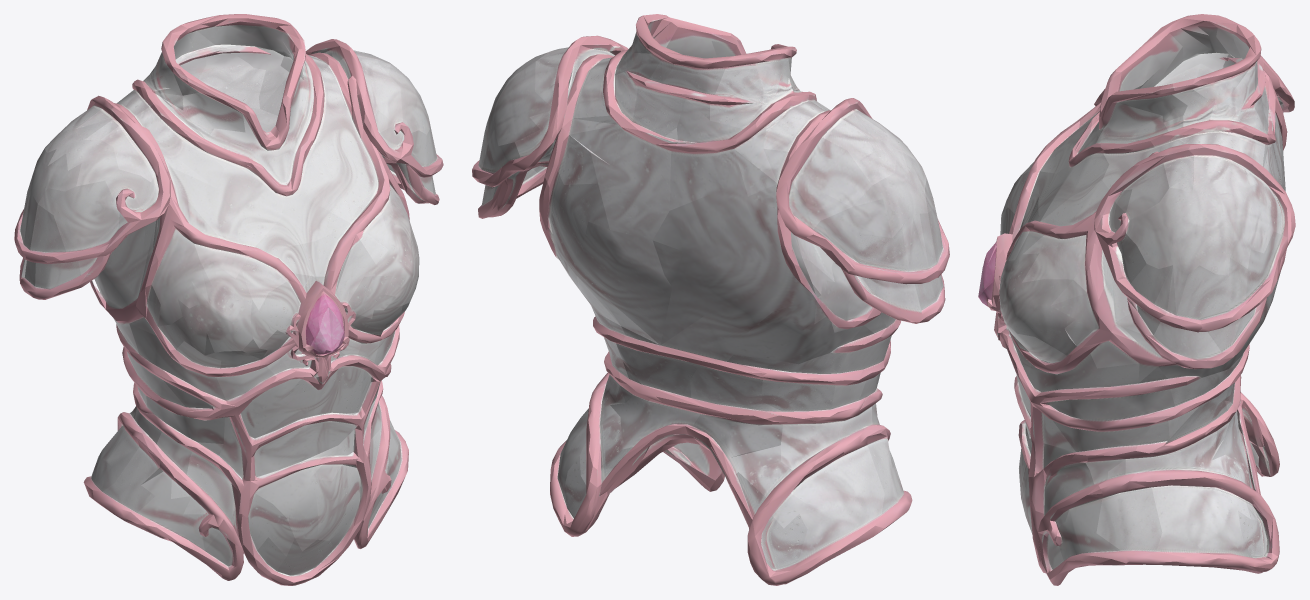
Rendered from diddy_armor_chest_rejected_feminine.glb.
3 views of the same model, side by side, from view 1: azimuth 30°, elevation 25°; view 2: azimuth 150°, elevation 25°; view 3: azimuth 270°, elevation 25° (orthographic). The views are drawn at different scales.
Parts seen in each view (by area): view 1: Mesh_0; view 2: Mesh_0; view 3: Mesh_0.
Boxes of the visible parts, x1,y1,x2,y2 form: Mesh_0: [14, 14, 443, 585]; Mesh_0: [472, 14, 949, 585]; Mesh_0: [978, 14, 1295, 585].
Bounding box in the file's own units: 1.65 × 1.89 × 1.04.
1 material, 1 textured.
